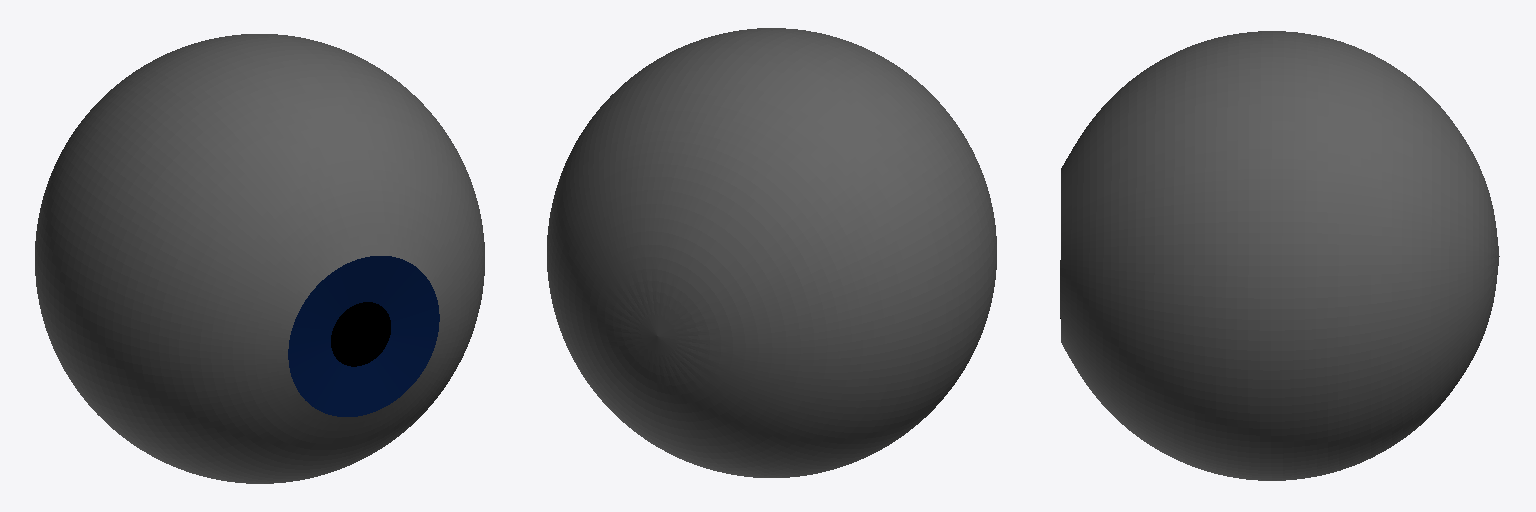
File: eyeball.obj
3 views of the same model, side by side, from view 1: azimuth 30°, elevation 25°; view 2: azimuth 150°, elevation 25°; view 3: azimuth 270°, elevation 25° (orthographic).
Visible parts, largest first — view 1: eyeball_1_eye_1, eyeball_1.002_eye_1.002, eyeball_1.001_eye_1.001; view 2: eyeball_1_eye_1; view 3: eyeball_1_eye_1.
Boxes of the visible parts, <box> form: eyeball_1_eye_1: <box>35,34,484,483</box>; eyeball_1.002_eye_1.002: <box>288,256,439,416</box>; eyeball_1.001_eye_1.001: <box>331,302,390,366</box>; eyeball_1_eye_1: <box>547,28,996,477</box>; eyeball_1_eye_1: <box>1060,31,1499,480</box>.
Bounding box in the file's own units: 3.86 × 3.86 × 3.77.